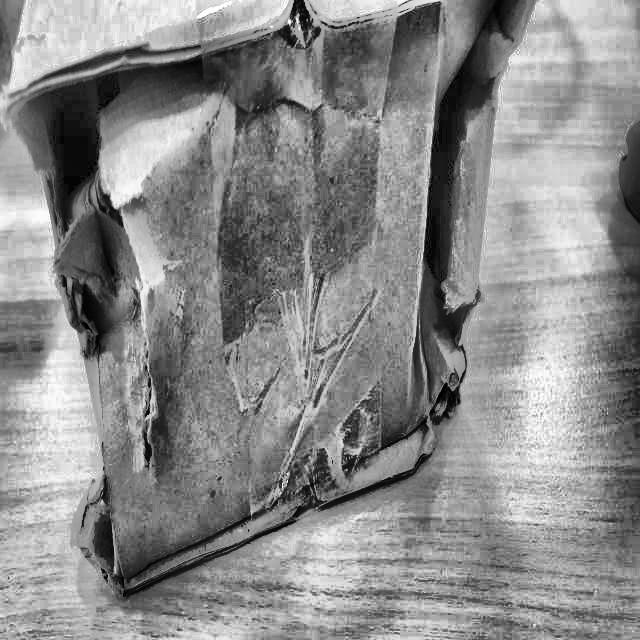box: (1, 1, 544, 599)
hole: (0, 45, 171, 313), (419, 0, 511, 421)
